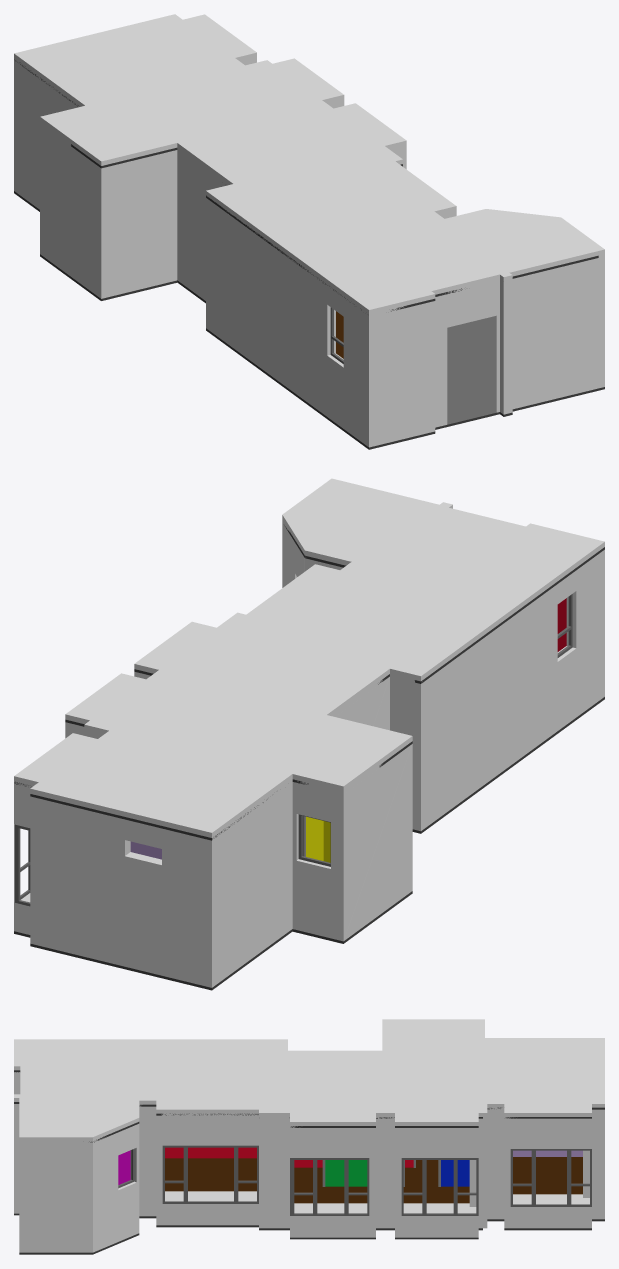
File: New_liberte_1f.fbx
3 renders of one model, top to bottom at view 1: azimuth 30°, elevation 25°; view 2: azimuth 150°, elevation 25°; view 3: azimuth 270°, elevation 25°, orthographic. The views are drawn at different scales.
Parts seen in each view (by area): view 1: ceiling_01, wall_o_027, wall_o_05, wall_o_024, wall_o_01, wall_o_023, door_m_01, wall_o_021, wall_o_025, wall_o_02, wall_bottom, wall_o_03 (+1 smaller); view 2: ceiling_01, wall_o_027, wall_o_020, wall_o_021, wall_o_023, wall_o_022, wall_o_026, wall_bottom, wall_top, wall_o_025, wall_o_018, wall_c_01 (+1 smaller); view 3: ceiling_01, wall_o_06, wall_o_09, wall_o_018, wall_o_014, wall_o_012, wall_c_01, floor_03, wall_o_011, floor_011, wall_o_013, wall_o_08 (+20 smaller).
Part boxes in pixels (left/top/right/bottom): ceiling_01: left=14, top=14, right=604, bottom=316; wall_o_027: left=206, top=198, right=368, bottom=446; wall_o_05: left=512, top=256, right=604, bottom=409; wall_o_024: left=101, top=150, right=177, bottom=298; wall_o_01: left=369, top=301, right=435, bottom=447; wall_o_023: left=40, top=124, right=101, bottom=298; door_m_01: left=447, top=315, right=496, bottom=424; wall_o_021: left=14, top=60, right=77, bottom=209; wall_o_025: left=177, top=150, right=225, bottom=300; wall_o_02: left=435, top=281, right=499, bottom=427; wall_bottom: left=14, top=191, right=604, bottom=449; wall_o_03: left=500, top=282, right=512, bottom=414; ceiling_01: left=14, top=478, right=604, bottom=840; wall_o_027: left=421, top=549, right=604, bottom=830; wall_o_020: left=30, top=796, right=211, bottom=987; wall_o_021: left=212, top=782, right=292, bottom=987; wall_o_023: left=343, top=744, right=412, bottom=940; wall_o_022: left=292, top=782, right=343, bottom=941; wall_o_026: left=390, top=676, right=420, bottom=831; wall_bottom: left=14, top=697, right=604, bottom=990; wall_top: left=14, top=525, right=604, bottom=840; wall_o_025: left=335, top=676, right=389, bottom=730; wall_o_018: left=14, top=784, right=30, bottom=934; wall_c_01: left=282, top=523, right=303, bottom=587; ceiling_01: left=14, top=1019, right=604, bottom=1142; wall_o_06: left=19, top=1143, right=92, bottom=1252; wall_o_09: left=156, top=1115, right=258, bottom=1225; wall_o_018: left=504, top=1118, right=591, bottom=1228; wall_o_014: left=395, top=1128, right=478, bottom=1237; wall_o_012: left=290, top=1128, right=375, bottom=1237; wall_c_01: left=93, top=1125, right=136, bottom=1252; floor_03: left=165, top=1158, right=438, bottom=1191; wall_o_011: left=266, top=1118, right=289, bottom=1228; floor_011: left=513, top=1157, right=582, bottom=1194; wall_o_013: left=376, top=1118, right=394, bottom=1228; wall_o_08: left=139, top=1106, right=156, bottom=1216.
Size of the model in its own units: 652 by 308 by 1380.
